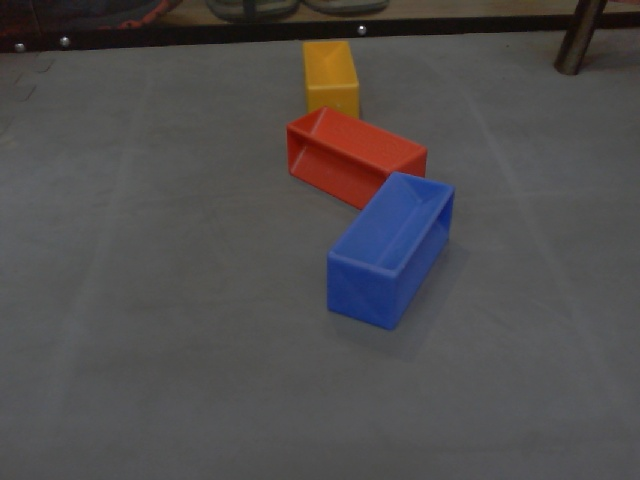BlueSample: (325, 169, 456, 330)
RedSample: (284, 102, 428, 214)
YellowSample: (298, 38, 365, 119)
